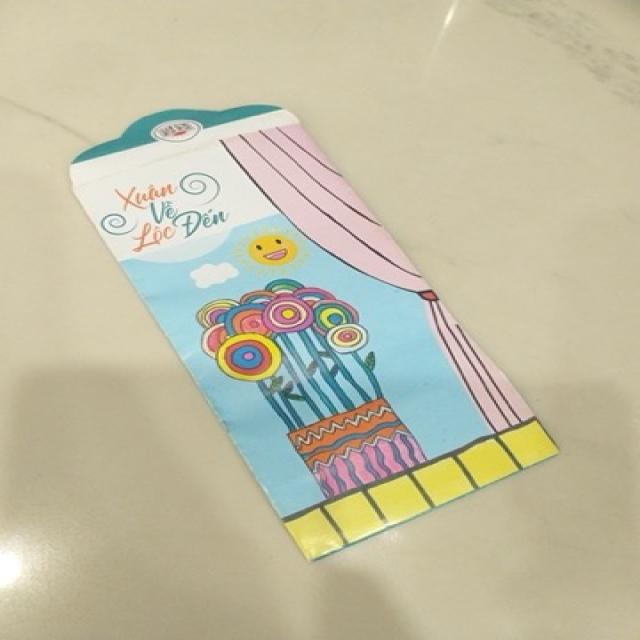PaperCardboard: (62, 102, 562, 573)
